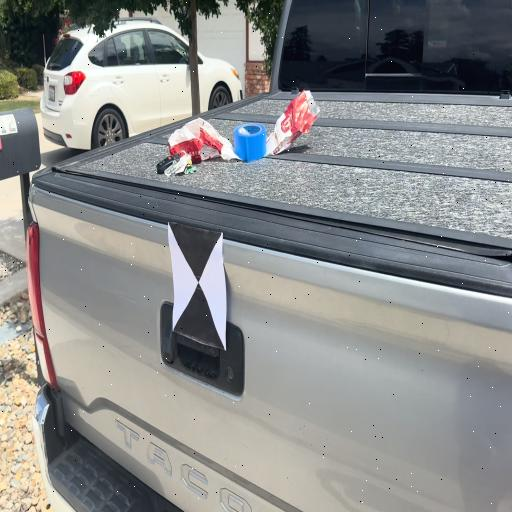target: (168, 223, 226, 347)
